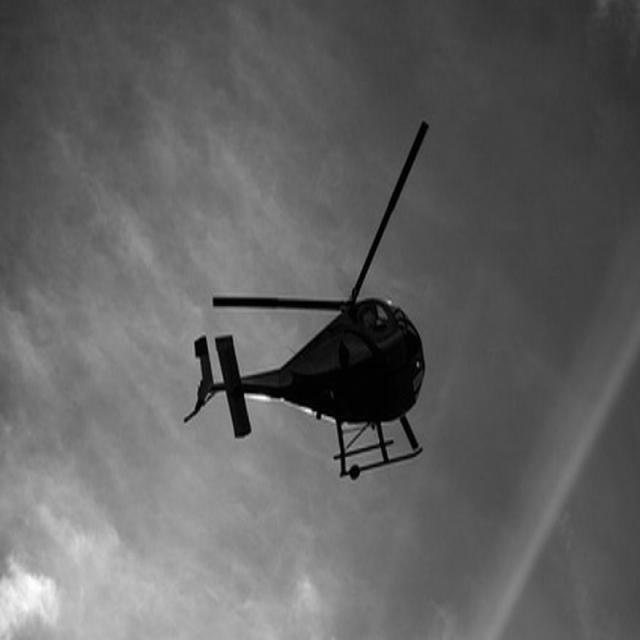helikopter: (190, 256, 460, 489)
